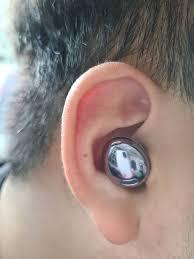earphone: (96, 127, 152, 185)
